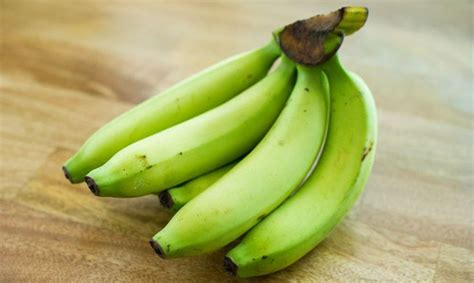banana: (148, 60, 332, 264), (224, 68, 383, 278), (60, 40, 278, 188), (81, 60, 298, 201)
